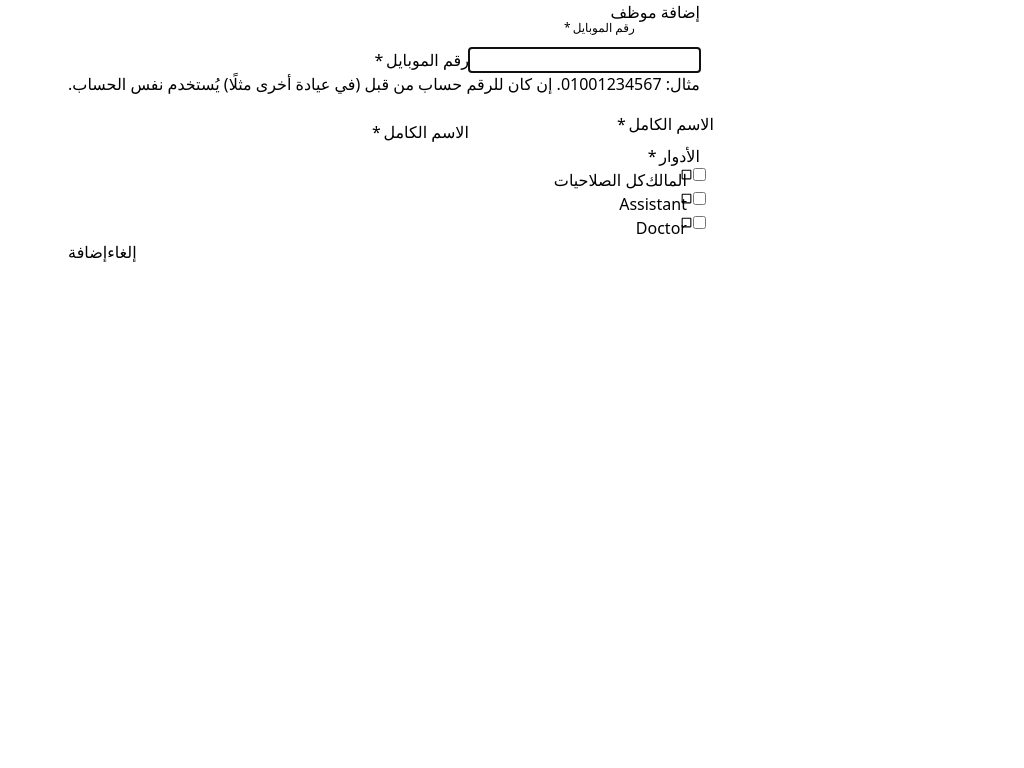
Test case: add a staff member @area:admin › the API answers rolesRequired: the message under the roles, the boxes aria-invalid, the first box focused @ADM-248
Type keys "01001234567"
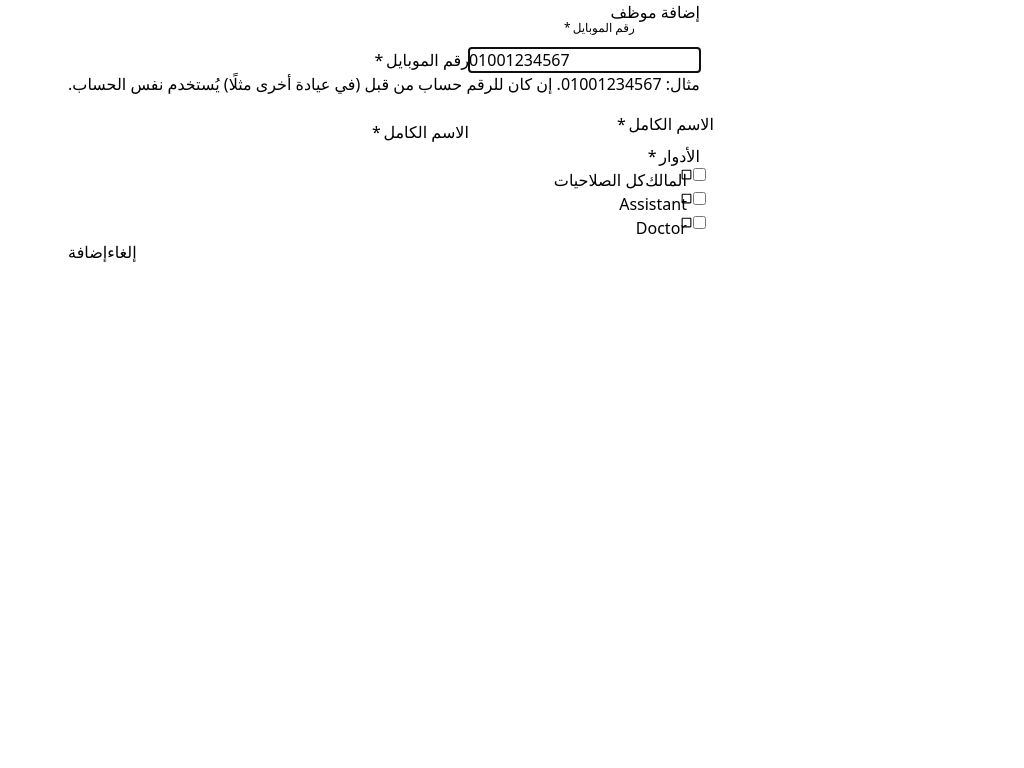
In the field labelled "الاسم الكامل *": (584, 132) [469,120,700,144], type "نور"
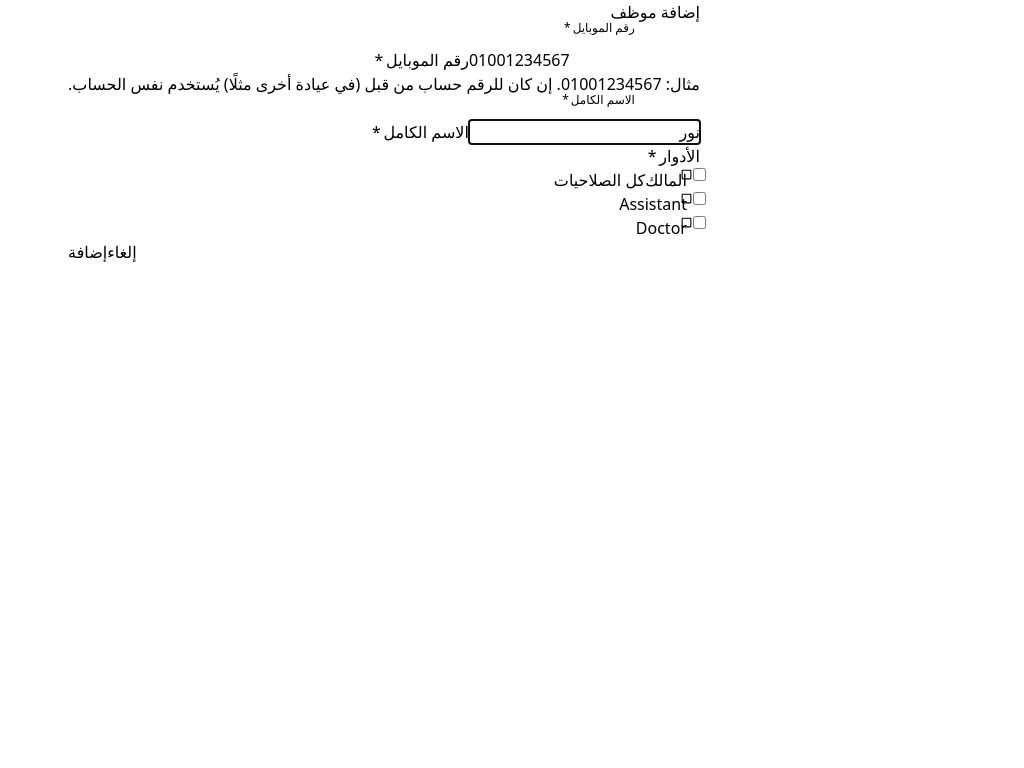
Click the checkbox labelled "Assistant": (700, 198) [693,192,706,205]
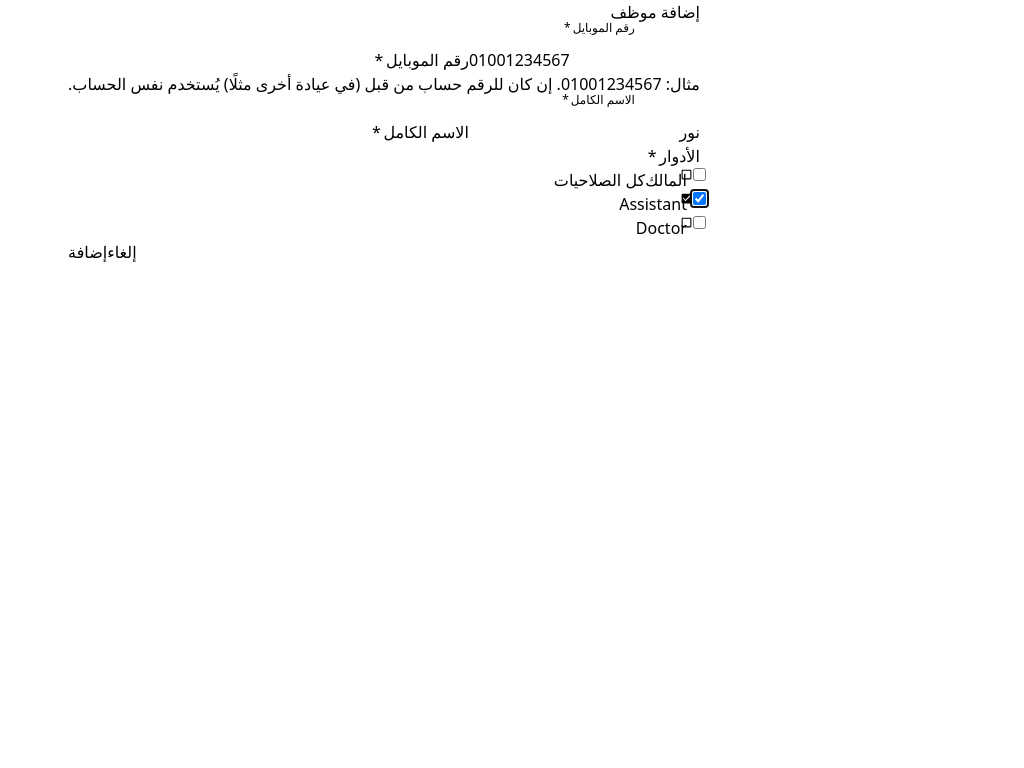
Click the button "إضافة": (88, 252) [68,240,107,264]
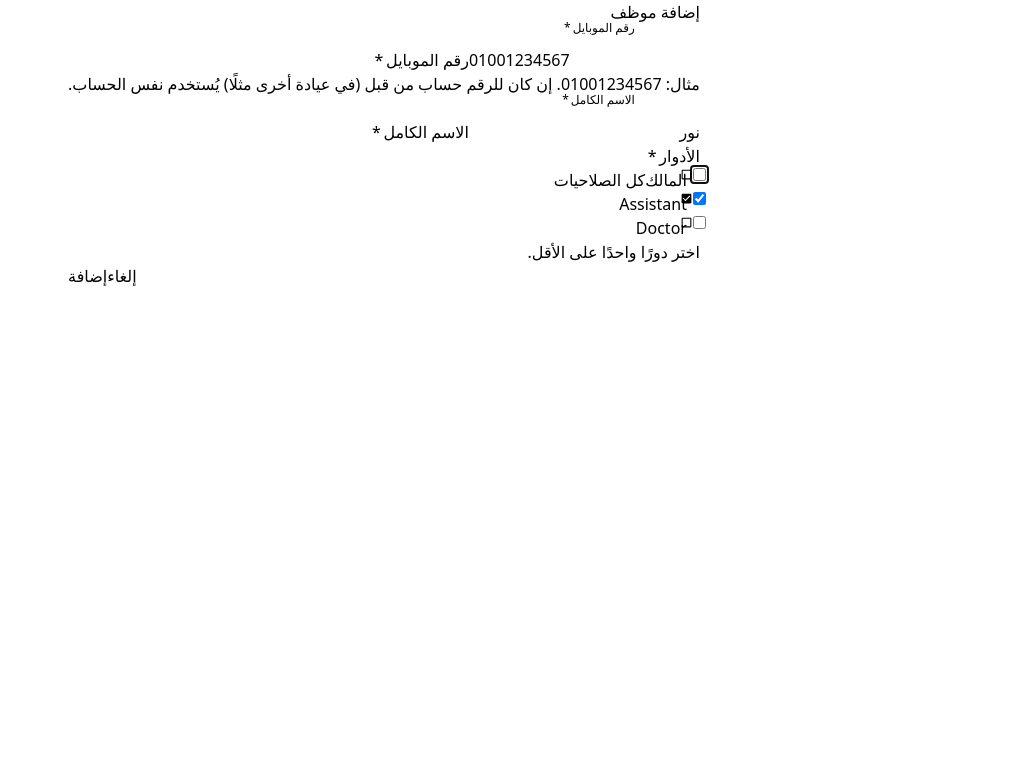
Expected: the checkbox labelled "المالككل الصلاحيات" is shown, [693,168,706,181]
Now the text "اختر دورًا واحدًا على الأقل." is shown, box [528,241,700,263]
